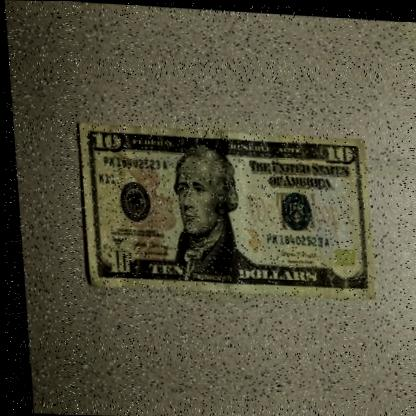ten-front: (72, 119, 375, 300)
